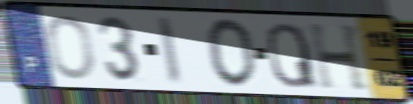3: (96, 14, 145, 84)
H: (306, 22, 372, 94)
I: (153, 14, 185, 87)
O: (204, 16, 259, 90), (44, 14, 98, 82)
Q: (264, 21, 320, 90)
